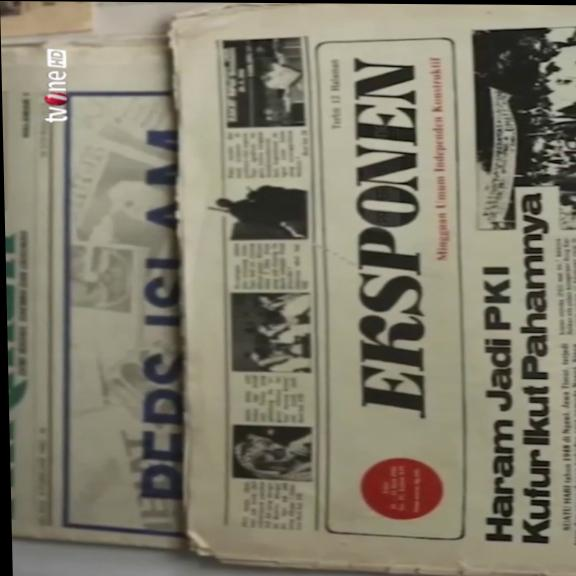Kertas: (170, 11, 576, 576), (5, 31, 190, 546), (228, 236, 313, 293)
